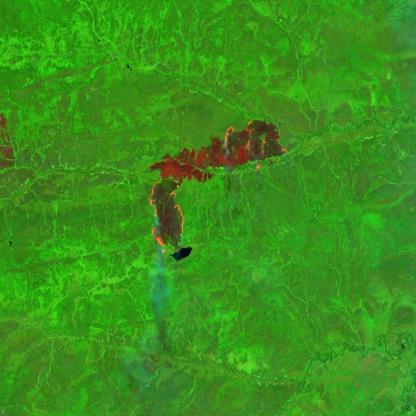fire: (223, 123, 289, 172), (147, 176, 186, 257)
